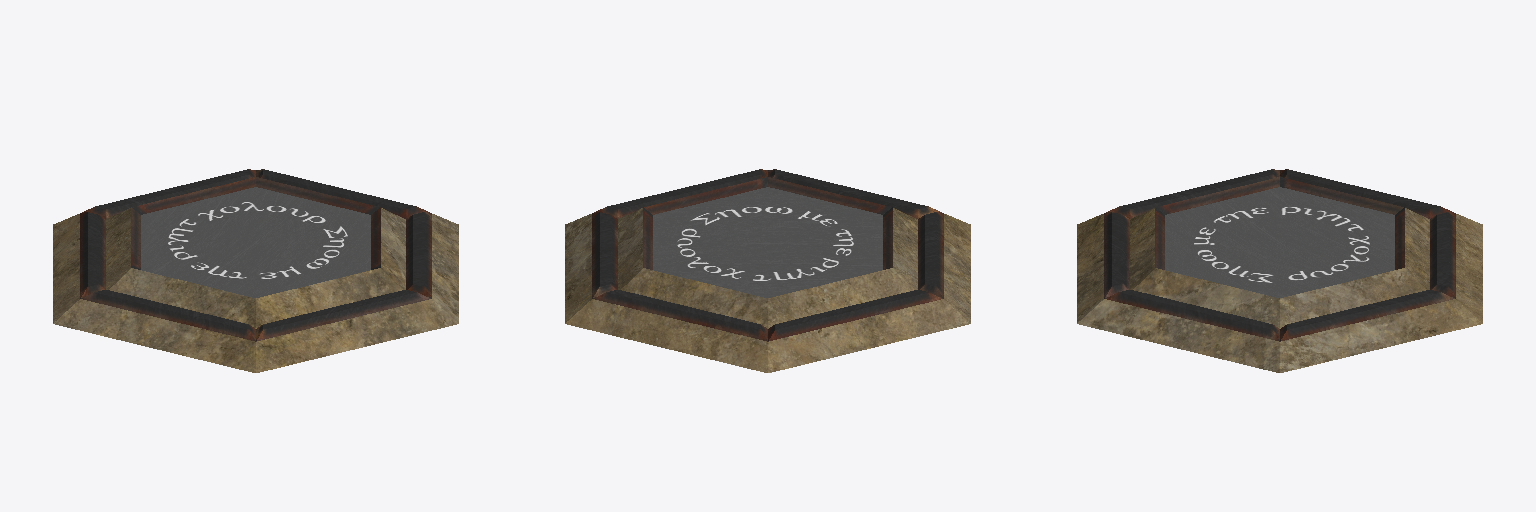
The picture shows the model from 3 angles: view 1: azimuth 30°, elevation 25°; view 2: azimuth 150°, elevation 25°; view 3: azimuth 270°, elevation 25°; orthographic projection.
Visible parts, largest first — view 1: sensorplatformmesh; view 2: sensorplatformmesh; view 3: sensorplatformmesh.
Boxes of the visible parts, x1=… form: sensorplatformmesh: x1=53, y1=169, x2=458, y2=372; sensorplatformmesh: x1=565, y1=169, x2=970, y2=372; sensorplatformmesh: x1=1077, y1=169, x2=1482, y2=372.
Size of the model in its own units: 2.31 by 0.2 by 2.
Materials: 2 (2 with a texture image).